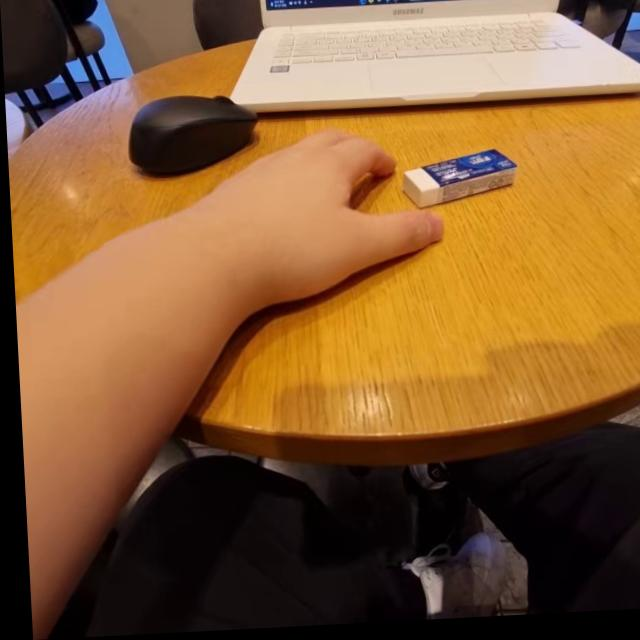eraser: (387, 149, 513, 218)
hand: (202, 120, 422, 368)
mouse: (107, 83, 253, 178)
